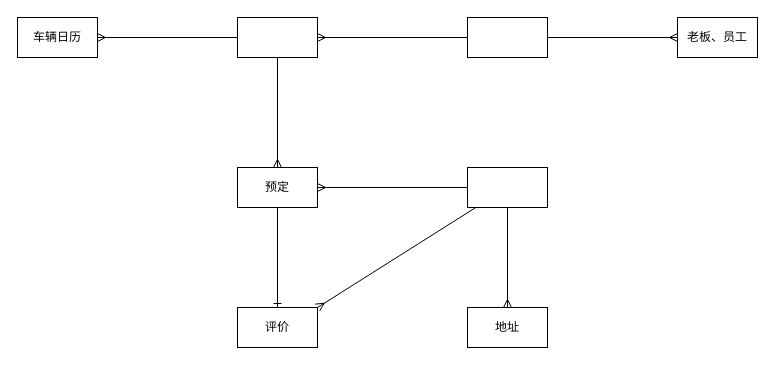
Image size: 775x365. Some labels were removed from this diagram. Each missing label, with the centre of its shape:
店铺: the point at 507,37
用户: the point at 507,187
车辆: the point at 277,37
